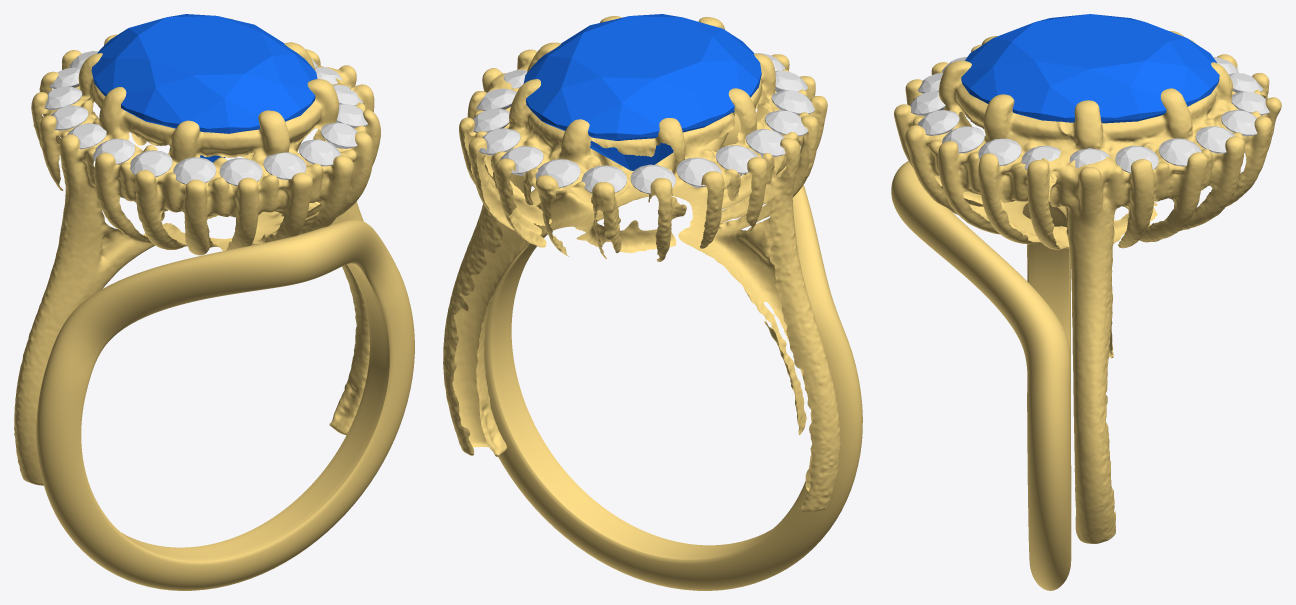
Rendered from DanYGcurved_blender.glb.
3 renders of one model, left to right at view 1: azimuth 30°, elevation 25°; view 2: azimuth 150°, elevation 25°; view 3: azimuth 270°, elevation 25°, orthographic. The views are drawn at different scales.
Parts seen in each view (by area): view 1: Daniel YG for 3d model, Daniel sapph for 3d model, Daniel dia for 3d model.007, Daniel dia for 3d model.009, Daniel dia for 3d model.008, Daniel dia for 3d model.006, Daniel dia for 3d model.010, Daniel dia for 3d model.011, Daniel dia for 3d model.005, Daniel dia for 3d model.003, Daniel dia for 3d model.004, Daniel dia for 3d model.002 (+1 smaller); view 2: Daniel YG for 3d model, Daniel sapph for 3d model, Daniel dia for 3d model.002, Daniel dia for 3d model.019, Daniel dia for 3d model, Daniel dia for 3d model.003, Daniel dia for 3d model.004, Daniel dia for 3d model.001, Daniel dia for 3d model.018, Daniel dia for 3d model.005, Daniel dia for 3d model.017, Daniel dia for 3d model.006 (+3 smaller); view 3: Daniel YG for 3d model, Daniel sapph for 3d model, Daniel dia for 3d model.016, Daniel dia for 3d model.012, Daniel dia for 3d model.010, Daniel dia for 3d model.011, Daniel dia for 3d model.017, Daniel dia for 3d model.015, Daniel dia for 3d model.018, Daniel dia for 3d model.019, Daniel dia for 3d model.009, Daniel dia for 3d model.013 (+1 smaller).
Boxes of the visible parts, bbox=[...] form: Daniel YG for 3d model: bbox=[14, 18, 414, 590]; Daniel sapph for 3d model: bbox=[91, 14, 317, 162]; Daniel dia for 3d model.007: bbox=[173, 157, 216, 184]; Daniel dia for 3d model.009: bbox=[263, 152, 306, 179]; Daniel dia for 3d model.008: bbox=[219, 158, 262, 186]; Daniel dia for 3d model.006: bbox=[130, 150, 172, 177]; Daniel dia for 3d model.010: bbox=[299, 139, 340, 166]; Daniel dia for 3d model.011: bbox=[320, 122, 357, 148]; Daniel dia for 3d model.005: bbox=[92, 138, 135, 164]; Daniel dia for 3d model.003: bbox=[50, 105, 88, 130]; Daniel dia for 3d model.004: bbox=[67, 123, 106, 149]; Daniel dia for 3d model.002: bbox=[44, 86, 82, 109]; Daniel YG for 3d model: bbox=[443, 16, 862, 590]; Daniel sapph for 3d model: bbox=[523, 14, 761, 170]; Daniel dia for 3d model.002: bbox=[676, 157, 721, 187]; Daniel dia for 3d model.019: bbox=[535, 159, 580, 187]; Daniel dia for 3d model: bbox=[581, 165, 626, 192]; Daniel dia for 3d model.003: bbox=[715, 145, 758, 174]; Daniel dia for 3d model.004: bbox=[746, 129, 785, 158]; Daniel dia for 3d model.001: bbox=[630, 164, 675, 194]; Daniel dia for 3d model.018: bbox=[500, 146, 543, 176]; Daniel dia for 3d model.005: bbox=[765, 110, 808, 136]; Daniel dia for 3d model.017: bbox=[479, 128, 520, 155]; Daniel dia for 3d model.006: bbox=[771, 90, 814, 114]; Daniel YG for 3d model: bbox=[891, 31, 1281, 590]; Daniel sapph for 3d model: bbox=[961, 14, 1219, 123]; Daniel dia for 3d model.016: bbox=[1159, 138, 1201, 166]; Daniel dia for 3d model.012: bbox=[978, 138, 1021, 165]; Daniel dia for 3d model.010: bbox=[918, 110, 959, 135]; Daniel dia for 3d model.011: bbox=[942, 126, 984, 153]; Daniel dia for 3d model.017: bbox=[1195, 126, 1234, 153]; Daniel dia for 3d model.015: bbox=[1115, 145, 1158, 173]; Daniel dia for 3d model.018: bbox=[1221, 110, 1257, 136]; Daniel dia for 3d model.019: bbox=[1231, 91, 1269, 115]; Daniel dia for 3d model.009: bbox=[909, 91, 945, 115]; Daniel dia for 3d model.013: bbox=[1021, 145, 1060, 169].
Size of the model in its own units: 20.13 by 26.89 by 17.99.
